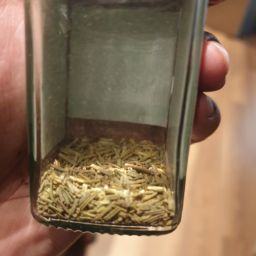Rosemary: (42, 119, 173, 256), (105, 127, 221, 256), (20, 144, 122, 256)
